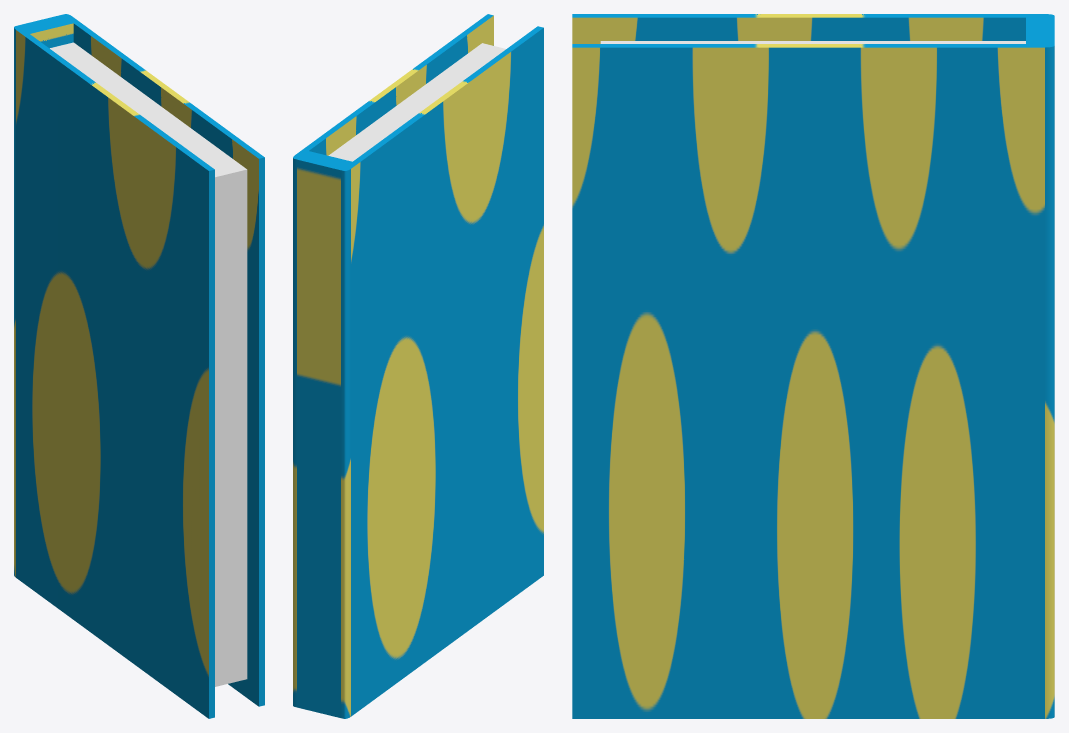
Rendered from book3.fbx.
3 renders of one model, left to right at view 1: azimuth 30°, elevation 25°; view 2: azimuth 150°, elevation 25°; view 3: azimuth 270°, elevation 25°, orthographic. The views are drawn at different scales.
Visible parts, largest first — view 1: pCube1; view 2: pCube1; view 3: pCube1.
Boxes of the visible parts, <box> form: pCube1: <box>14,14,264,718</box>; pCube1: <box>293,14,543,718</box>; pCube1: <box>572,14,1054,718</box>.
Size of the model in its own units: 0.2286 by 2.14 by 1.39.
